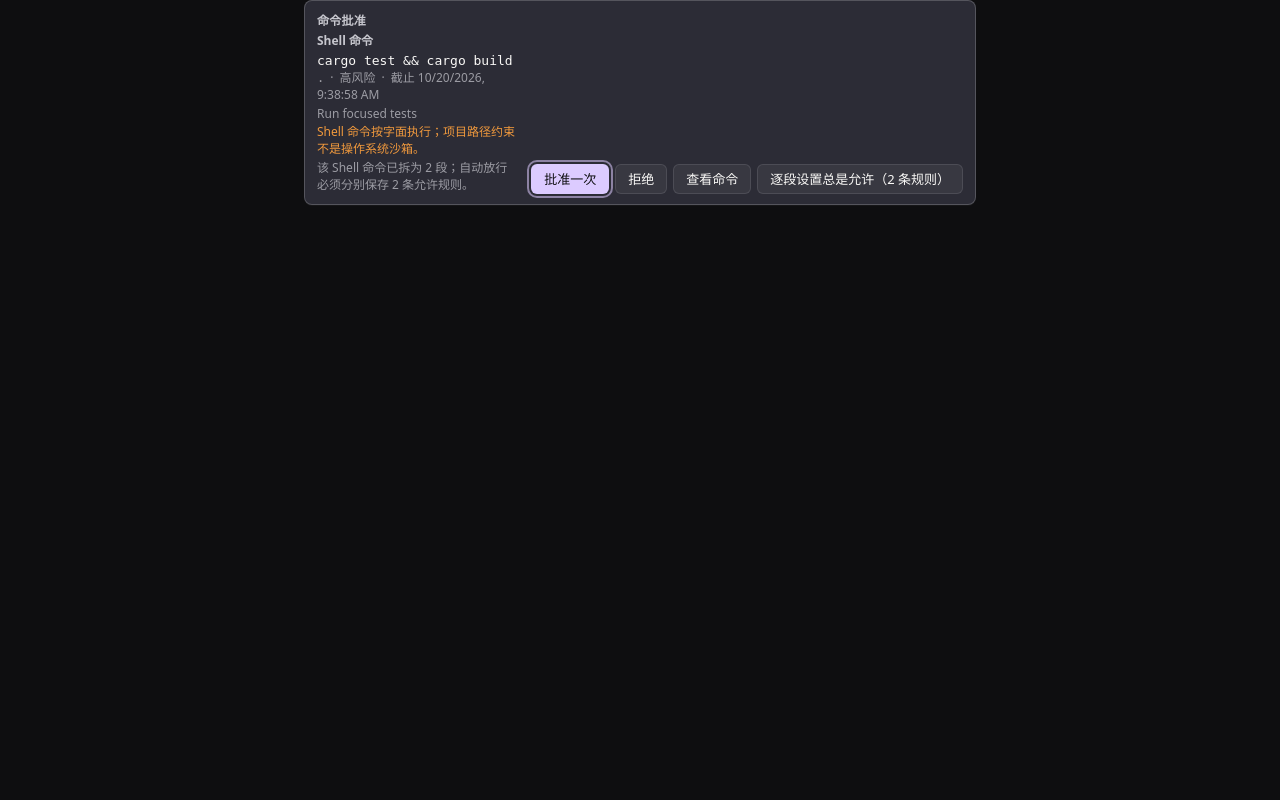
Test case: Permission rules — always allow from approval bar › 4c — shell allow is saved one normalized segment at a time
Expected: the text with test id "command-approval-shell-rule-note" shows "2 段", x1=317 y1=159 x2=507 y2=193
Expected: the text with test id "command-approval-shell-rule-note" shows "分别保存 2 条允许规则", x1=317 y1=159 x2=507 y2=193
Click the button with test id "command-approval-always-allow".
click(860, 179)  # box x1=757 y1=164 x2=963 y2=194
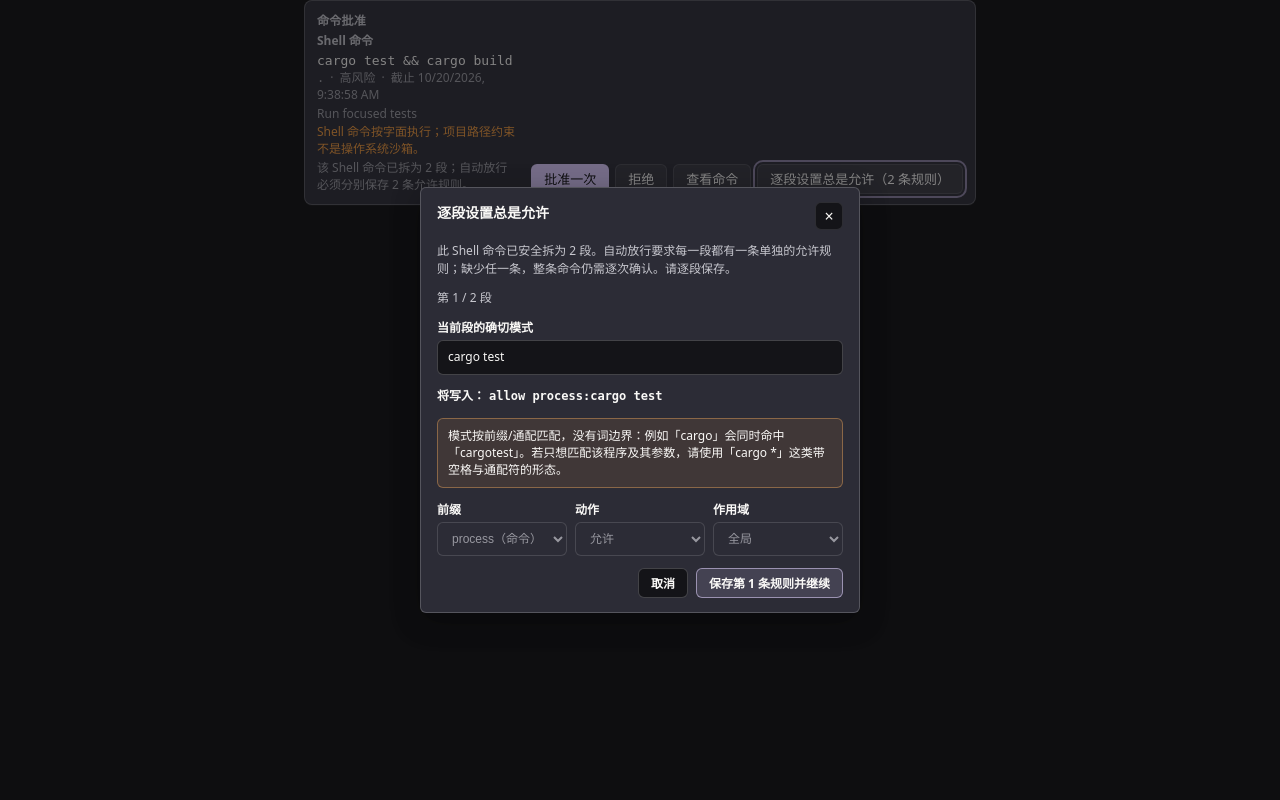
Result: the text with test id "always-rule-conjunction-note" shows "每一段都有一条单独的允许规则" at x1=437 y1=242 x2=831 y2=277
Result: the text with test id "always-rule-conjunction-note" shows "缺少任一条" at x1=437 y1=242 x2=831 y2=277
Result: the text with test id "always-rule-progress" reads "第 1 / 2 段" at x1=437 y1=289 x2=492 y2=306
Click the button with test id "always-rule-submit".
click(769, 583)  # box x1=696 y1=568 x2=843 y2=598
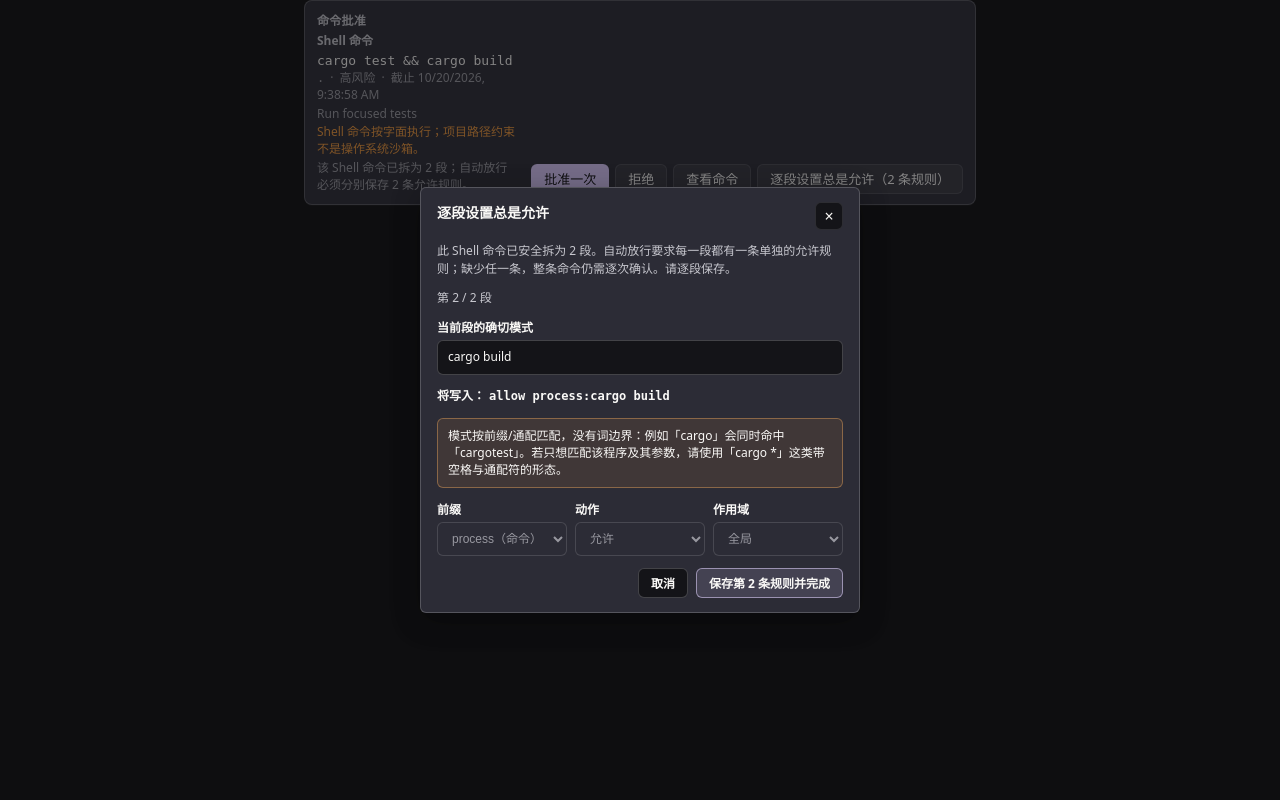
Result: the dialog with test id "always-rule-dialog" is shown
Result: the text with test id "always-rule-progress" reads "第 2 / 2 段" at x1=437 y1=289 x2=492 y2=306
Result: the field with test id "always-rule-pattern" holds "cargo build" at x1=437 y1=340 x2=843 y2=375
Click the button with test id "always-rule-submit".
click(769, 583)  # box x1=696 y1=568 x2=843 y2=598
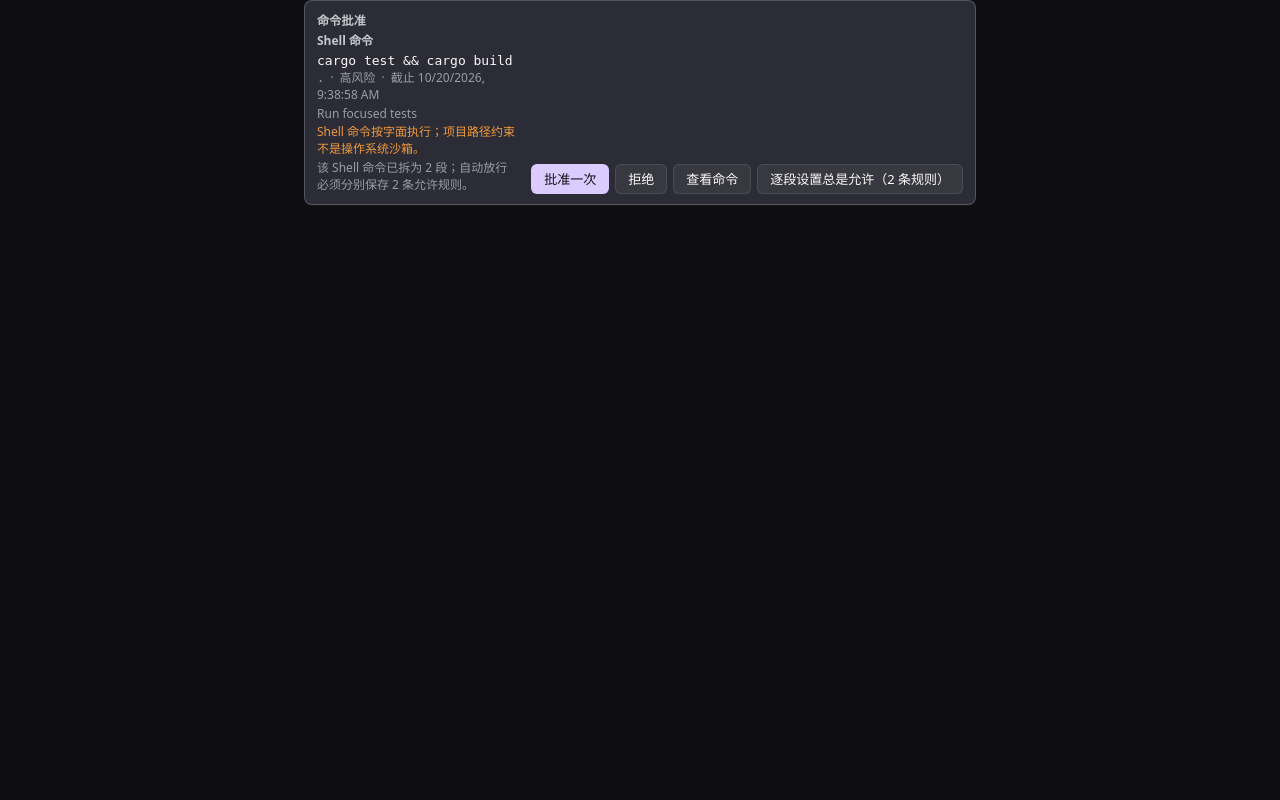
Result: the dialog with test id "always-rule-dialog" is gone
